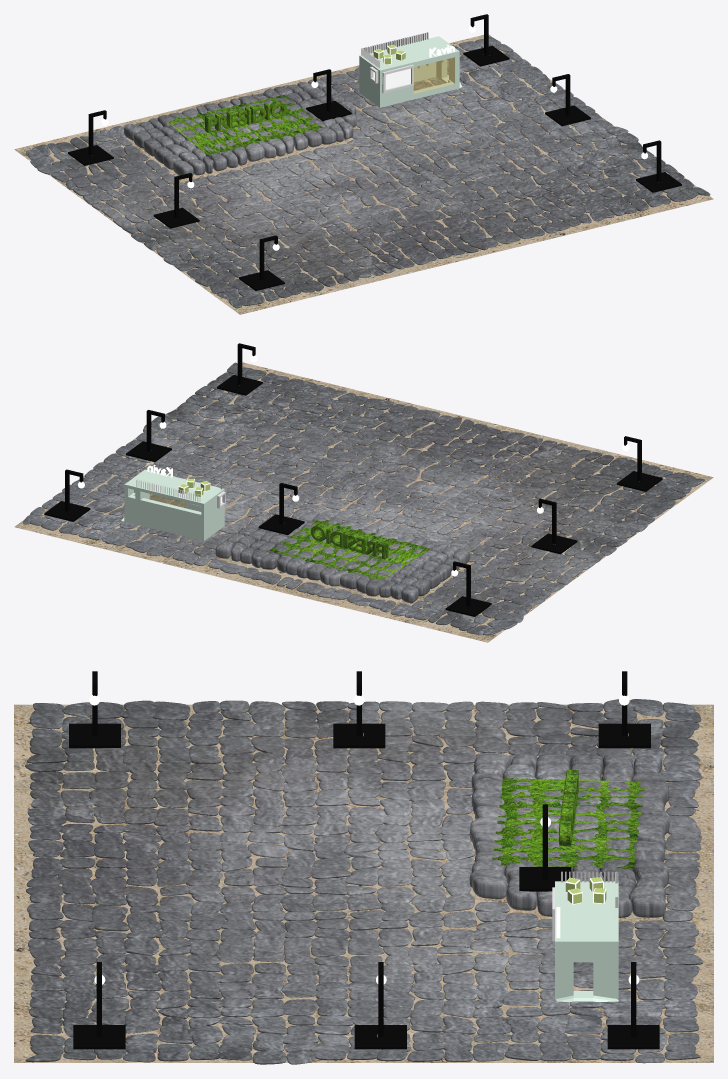
The picture shows the model from 3 angles, top to bottom: view 1: azimuth 30°, elevation 25°; view 2: azimuth 150°, elevation 25°; view 3: azimuth 270°, elevation 25°; orthographic projection. The views are drawn at different scales.
Visible parts, largest first — view 1: Plane.002, Plane.001, Cube.031, Presidio, Grasses, Grasses.002, Cube.009, Cube.011, Cube.003, Cube.005, Cube.013, Cube.001 (+2 smaller); view 2: Plane.002, Plane.001, Cube.031, Presidio, Grasses, Grasses.002, Cube.005, Cube.003, Cube.001, Cube.007, Cube.013, Cube.011 (+2 smaller); view 3: Plane.002, Plane.001, Cube.031, Grasses, Grasses.002, Grasses.001, Cube.005, Cube.001, Cube.003, Cube.009, Cube.007, Cube.011 (+2 smaller).
Part boxes in pixels (x1,y1,x2,y2): Plane.002: (26, 36, 710, 308); Plane.001: (14, 34, 713, 314); Cube.031: (359, 36, 462, 107); Presidio: (205, 100, 286, 132); Grasses: (167, 112, 246, 154); Grasses.002: (245, 95, 323, 136); Cube.009: (68, 110, 113, 165); Cube.011: (239, 235, 284, 290); Cube.003: (545, 74, 590, 126); Cube.005: (636, 140, 681, 192); Cube.013: (306, 69, 352, 121); Cube.001: (463, 14, 509, 66); Plane.002: (23, 362, 704, 635); Plane.001: (14, 362, 713, 642); Cube.031: (121, 469, 225, 540); Presidio: (311, 523, 388, 559); Grasses: (343, 538, 430, 579); Grasses.002: (269, 520, 356, 560); Cube.005: (217, 343, 262, 395); Cube.003: (126, 410, 171, 461); Cube.001: (44, 469, 90, 521); Cube.007: (531, 498, 577, 554); Cube.013: (258, 483, 304, 535); Cube.011: (616, 436, 662, 491); Plane.002: (25, 699, 703, 1064); Plane.001: (14, 704, 713, 1062); Cube.031: (552, 881, 618, 1001); Grasses: (499, 778, 644, 812); Grasses.002: (492, 835, 637, 868); Grasses.001: (495, 806, 641, 840); Cube.005: (73, 962, 125, 1049); Cube.001: (607, 962, 659, 1049); Cube.003: (354, 962, 406, 1049); Cube.009: (598, 671, 650, 748); Cube.007: (333, 671, 385, 748); Cube.011: (69, 671, 120, 748).
Size of the model in its own units: 144 by 15.99 by 117.
Materials: 14 (4 with a texture image).
